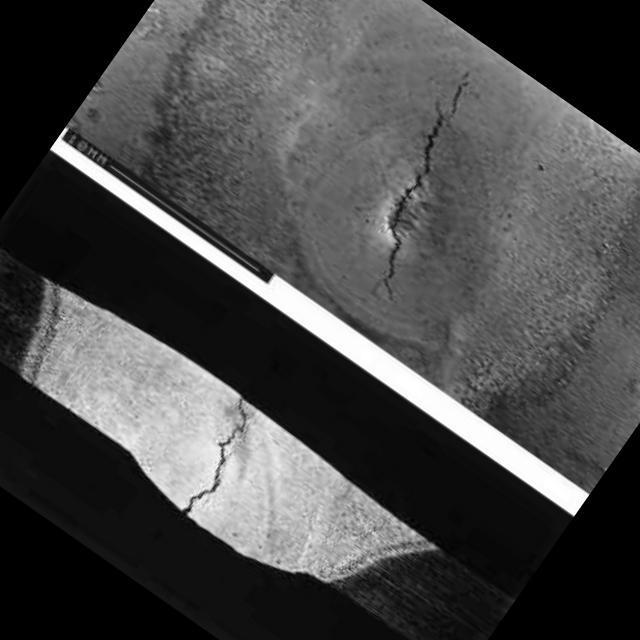defect: (376, 75, 475, 311), (176, 393, 251, 518)
